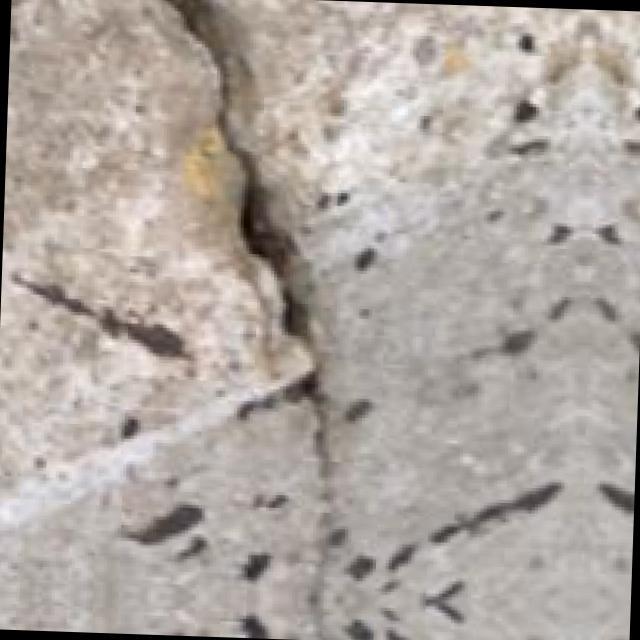crack: (128, 0, 370, 532)
